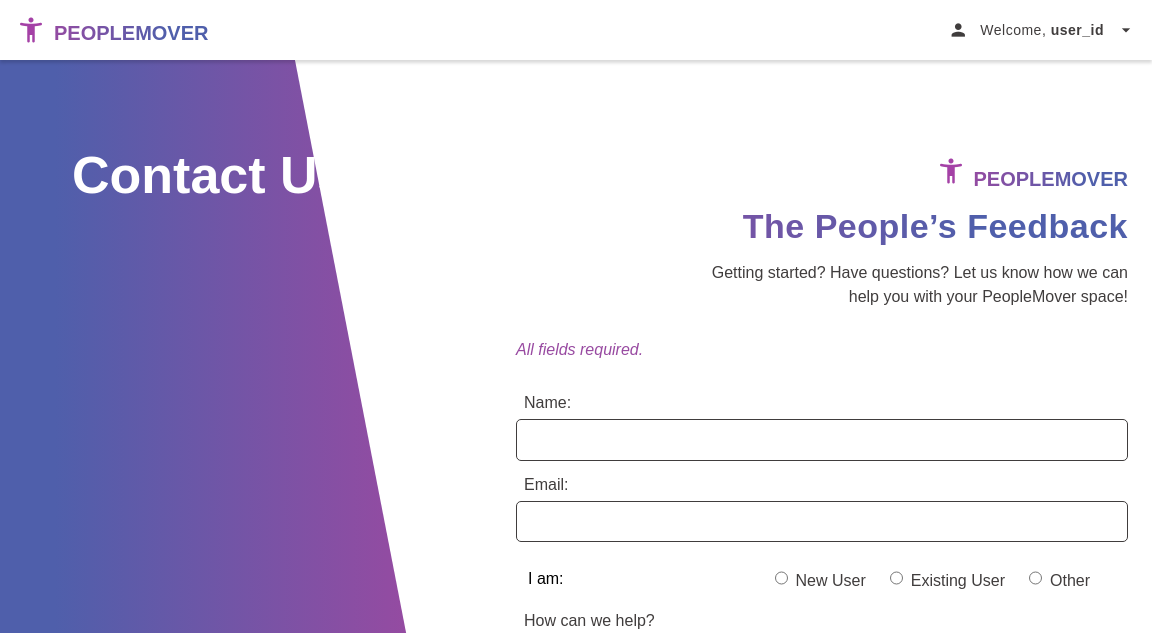
Test: Contact Us Page › Contact Us Header › should ONLY show the "Sign Out" button in the account dropdown
Click the button with test id "accountDropdownToggle" at (1042, 30), box [948,20,1136,40]
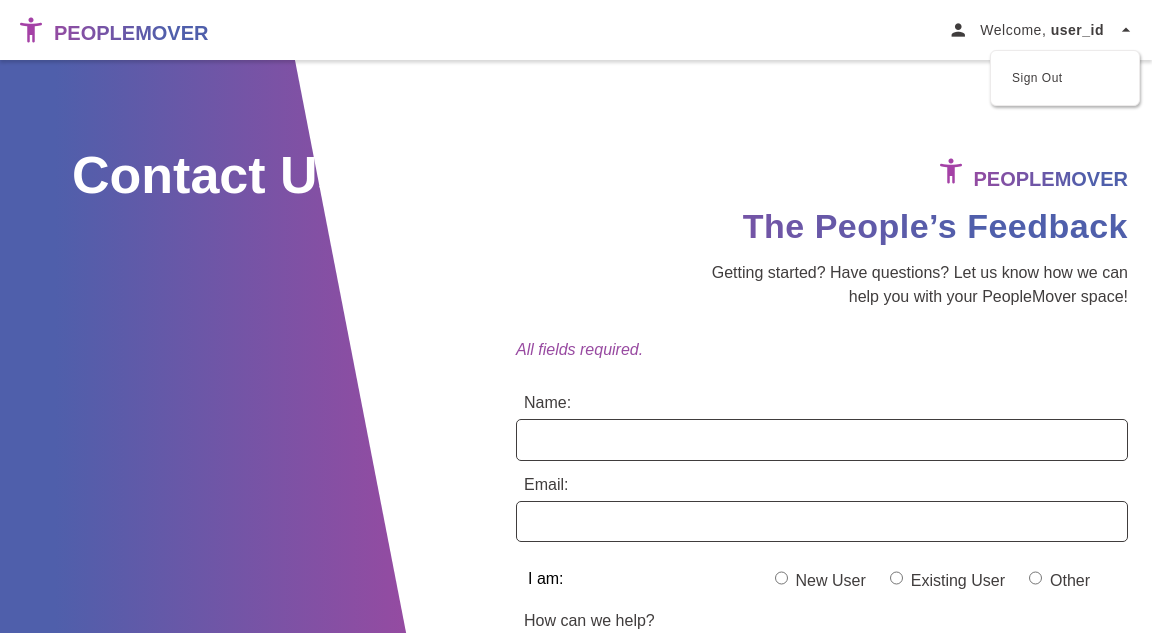
Result: the menu item "Sign Out" is shown at [1006,67,1124,89]
